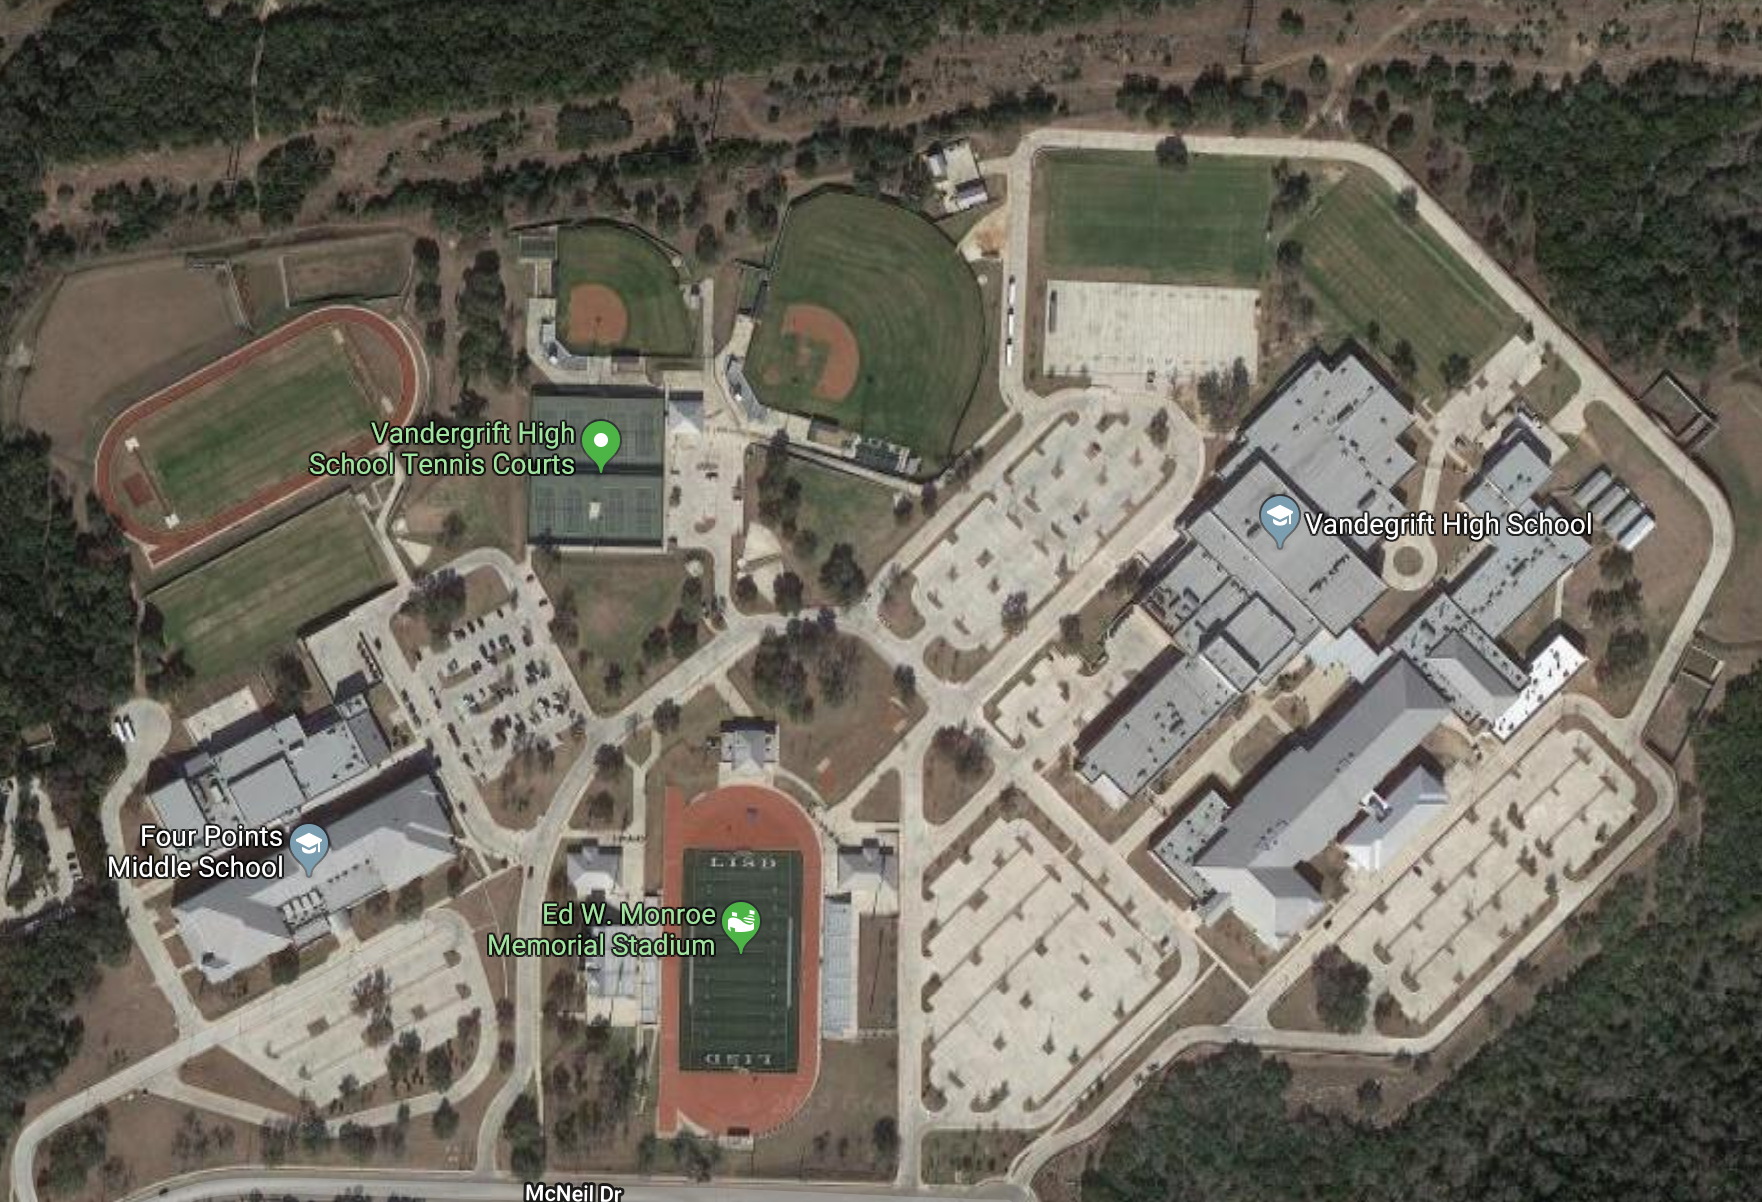baseball: (743, 178, 993, 474), (536, 206, 714, 373)
football: (636, 770, 858, 1146)
soccer: (1052, 158, 1273, 276)
